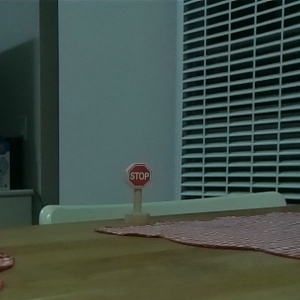stop sign: (123, 161, 154, 225)
